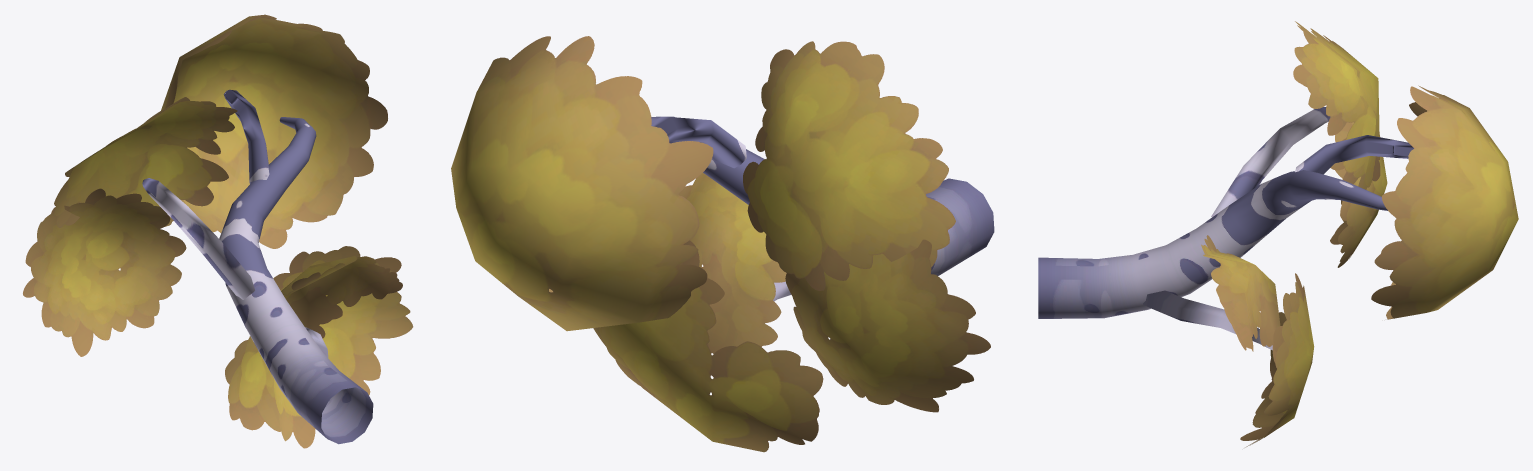
The model's file is Birchtree_03.fbx.
The picture shows the model from 3 angles, left to right: view 1: azimuth 30°, elevation 25°; view 2: azimuth 150°, elevation 25°; view 3: azimuth 270°, elevation 25°; orthographic projection. The views are drawn at different scales.
Visible parts, largest first — view 1: Foliage_03, Trunk_03; view 2: Foliage_03, Trunk_03; view 3: Foliage_03, Trunk_03.
Boxes of the visible parts, left/top/right/bottom form: Foliage_03: left=23, top=14, right=413, bottom=448; Trunk_03: left=142, top=89, right=373, bottom=444; Foliage_03: left=451, top=36, right=990, bottom=452; Trunk_03: left=651, top=116, right=994, bottom=301; Foliage_03: left=1201, top=21, right=1518, bottom=447; Trunk_03: left=1038, top=107, right=1413, bottom=350.
Size of the model in its own units: 6.61 by 5.98 by 6.75.
Materials: 2 (2 with a texture image).
